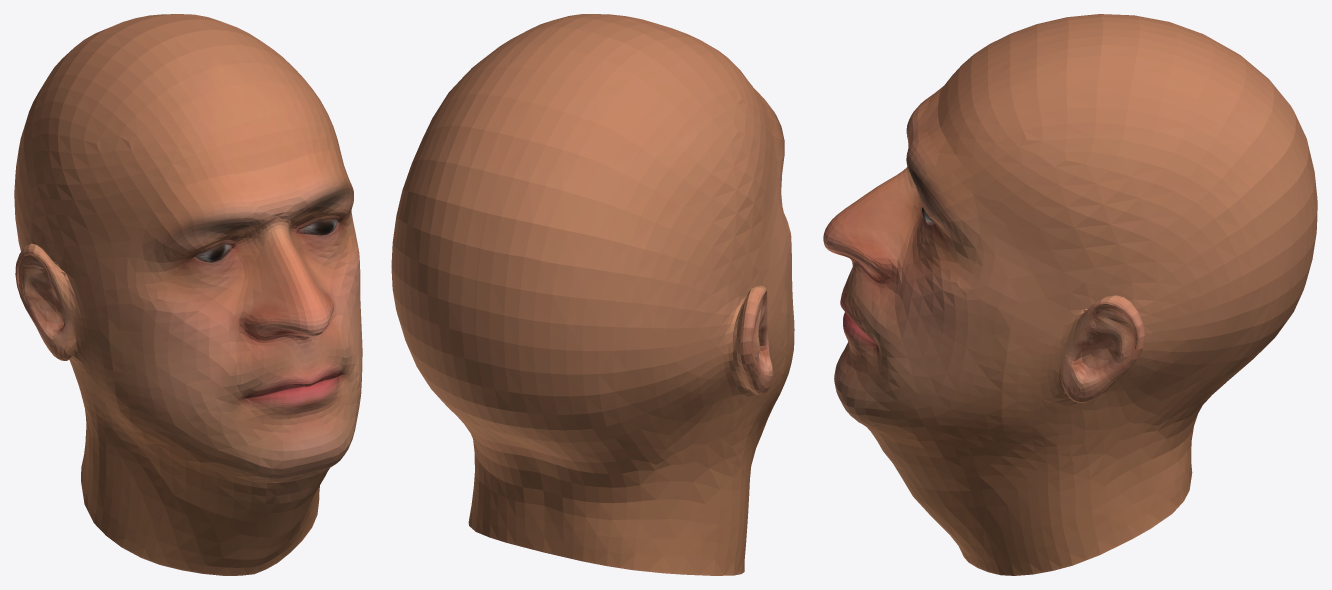
The model's file is face_oldmale.obj.
3 renders of one model, left to right at view 1: azimuth 30°, elevation 25°; view 2: azimuth 150°, elevation 25°; view 3: azimuth 270°, elevation 25°, orthographic. The views are drawn at different scales.
Visible parts, largest first — view 1: skin_hi, eyeL_hi; view 2: skin_hi; view 3: skin_hi.
Part boxes in pixels (box(x1,y1,x2,y2)): skin_hi: box(14, 14, 362, 575); eyeL_hi: box(298, 219, 337, 235); skin_hi: box(391, 14, 794, 575); skin_hi: box(823, 14, 1317, 575).
Size of the model in its own units: 185 by 279 by 240.
7 materials, 7 textured.
